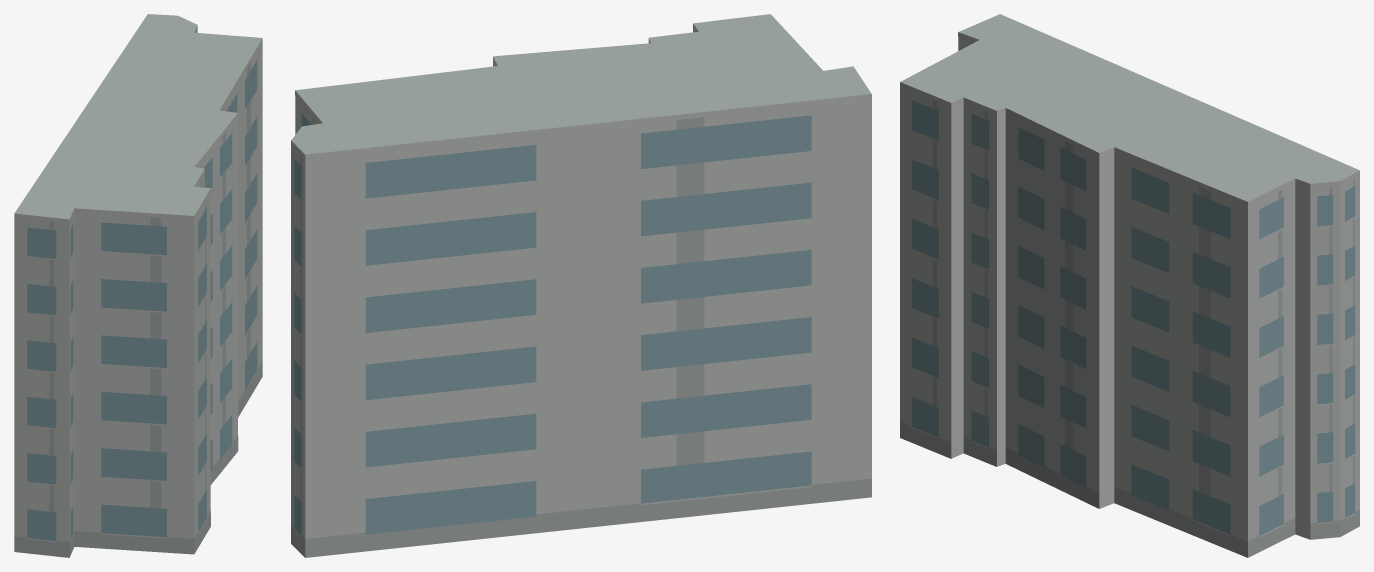
The model's file is survey-upis-32807110.glb.
3 renders of one model, left to right at view 1: azimuth 30°, elevation 25°; view 2: azimuth 150°, elevation 25°; view 3: azimuth 270°, elevation 25°, orthographic. The views are drawn at different scales.
Visible parts, largest first — view 1: survey-upis-32807110.tmp; view 2: survey-upis-32807110.tmp; view 3: survey-upis-32807110.tmp.
Part boxes in pixels (bbox=[...]): survey-upis-32807110.tmp: bbox=[14, 14, 262, 557]; survey-upis-32807110.tmp: bbox=[291, 14, 871, 557]; survey-upis-32807110.tmp: bbox=[900, 14, 1359, 557].
Size of the model in its own units: 21.18 by 18.7 by 21.9.
